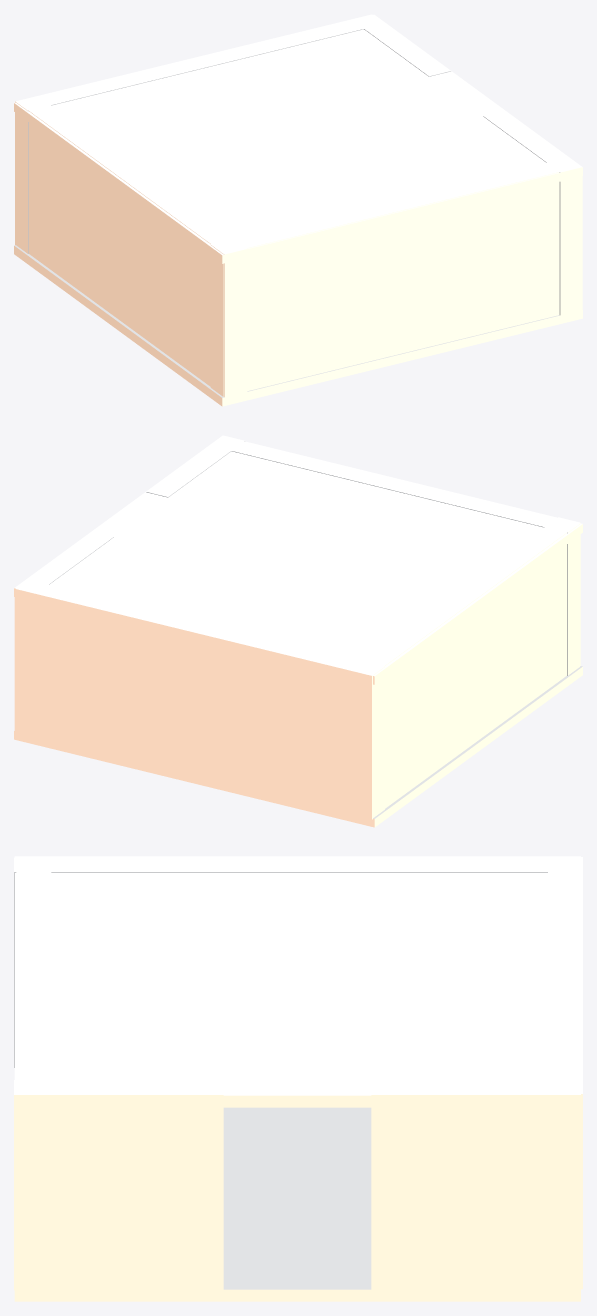
The model's file is containment-cell.glb.
The picture shows the model from 3 angles, top to bottom: view 1: azimuth 30°, elevation 25°; view 2: azimuth 150°, elevation 25°; view 3: azimuth 270°, elevation 25°; orthographic projection. The views are drawn at different scales.
Parts seen in each view (by area): view 1: Cube.002; view 2: Cube.002; view 3: Cube.002.
Boxes of the visible parts, bbox=[...] form: Cube.002: bbox=[14, 14, 582, 406]; Cube.002: bbox=[14, 435, 582, 827]; Cube.002: bbox=[14, 856, 582, 1301].
Size of the model in its own units: 5.25 by 2.11 by 5.28.
